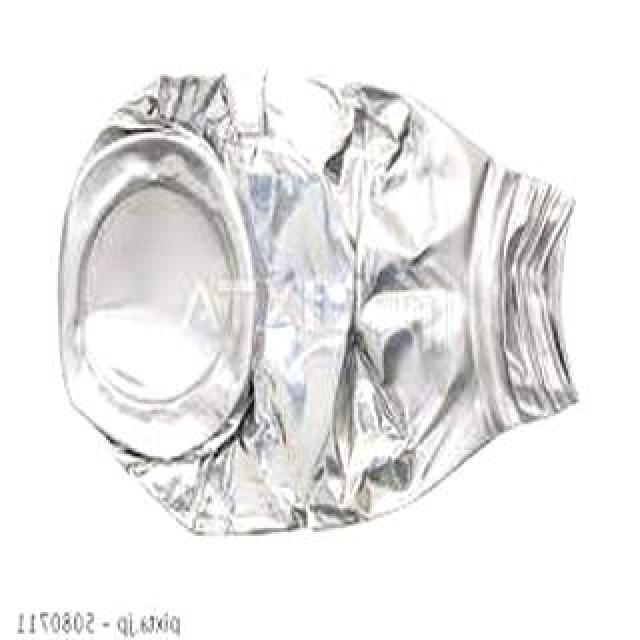Can: (47, 66, 613, 558)
